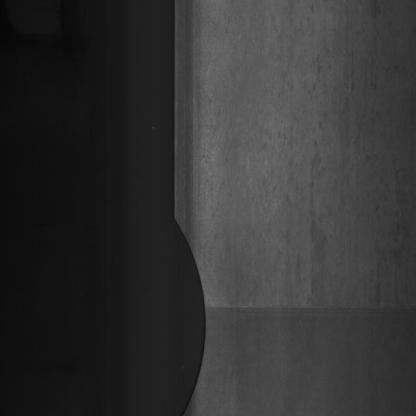crescent_gap: (150, 206, 213, 416)
welding_line: (202, 293, 416, 324)
